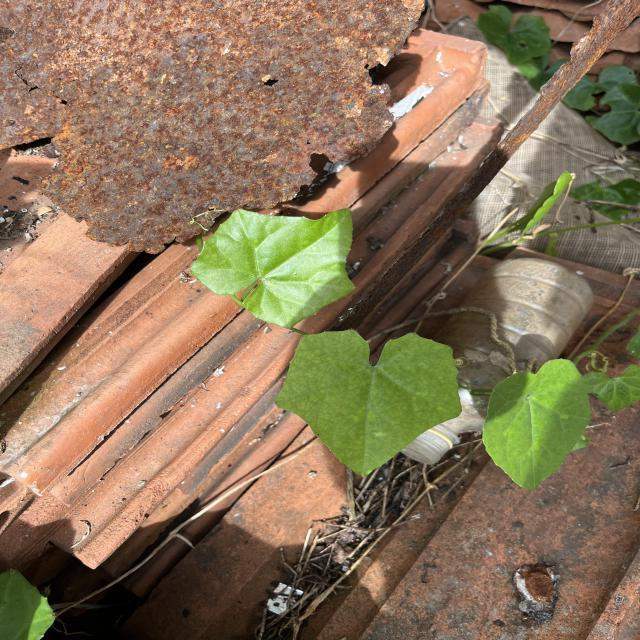Coccinia grandis: (273, 328, 463, 478), (188, 207, 356, 329)
